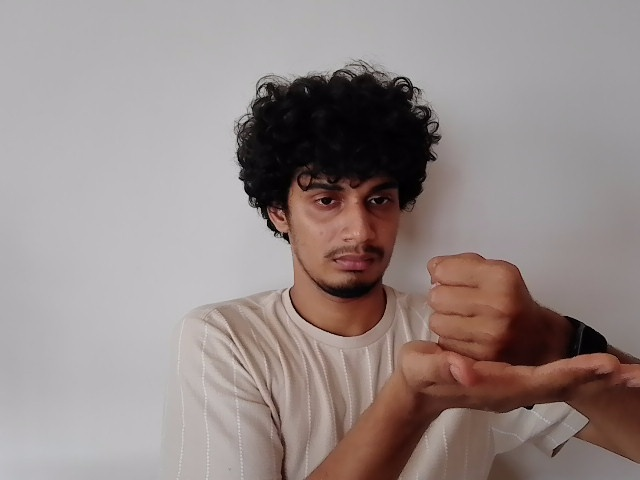help: (403, 247, 640, 403)
